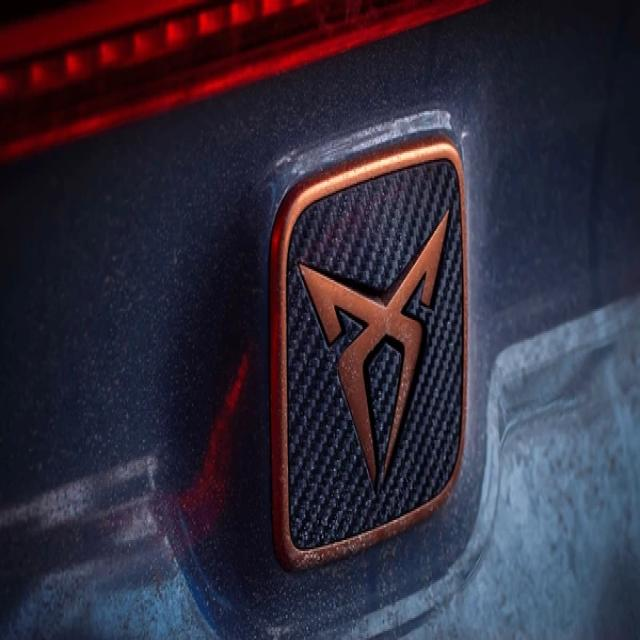cupra: (293, 202, 463, 497)
